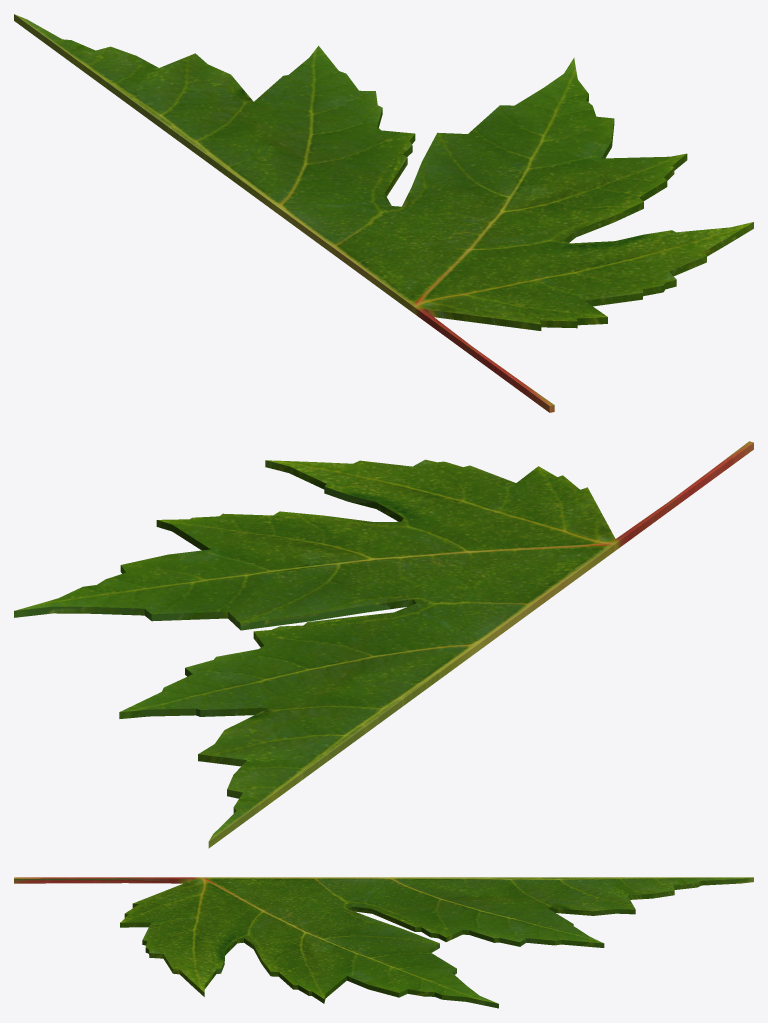
Rendered from Half_Leaf_Right.glb.
3 renders of one model, top to bottom at view 1: azimuth 30°, elevation 25°; view 2: azimuth 150°, elevation 25°; view 3: azimuth 270°, elevation 25°, orthographic. The views are drawn at different scales.
Visible parts, largest first — view 1: Half_Leaf_Right; view 2: Half_Leaf_Right; view 3: Half_Leaf_Right.
Boxes of the visible parts, left/top/right/bottom form: Half_Leaf_Right: left=14, top=14, right=753, bottom=412; Half_Leaf_Right: left=14, top=441, right=753, bottom=848; Half_Leaf_Right: left=14, top=877, right=753, bottom=1008.
Size of the model in its own units: 1.46 by 0.0253 by 3.61.
1 material, 1 textured.
